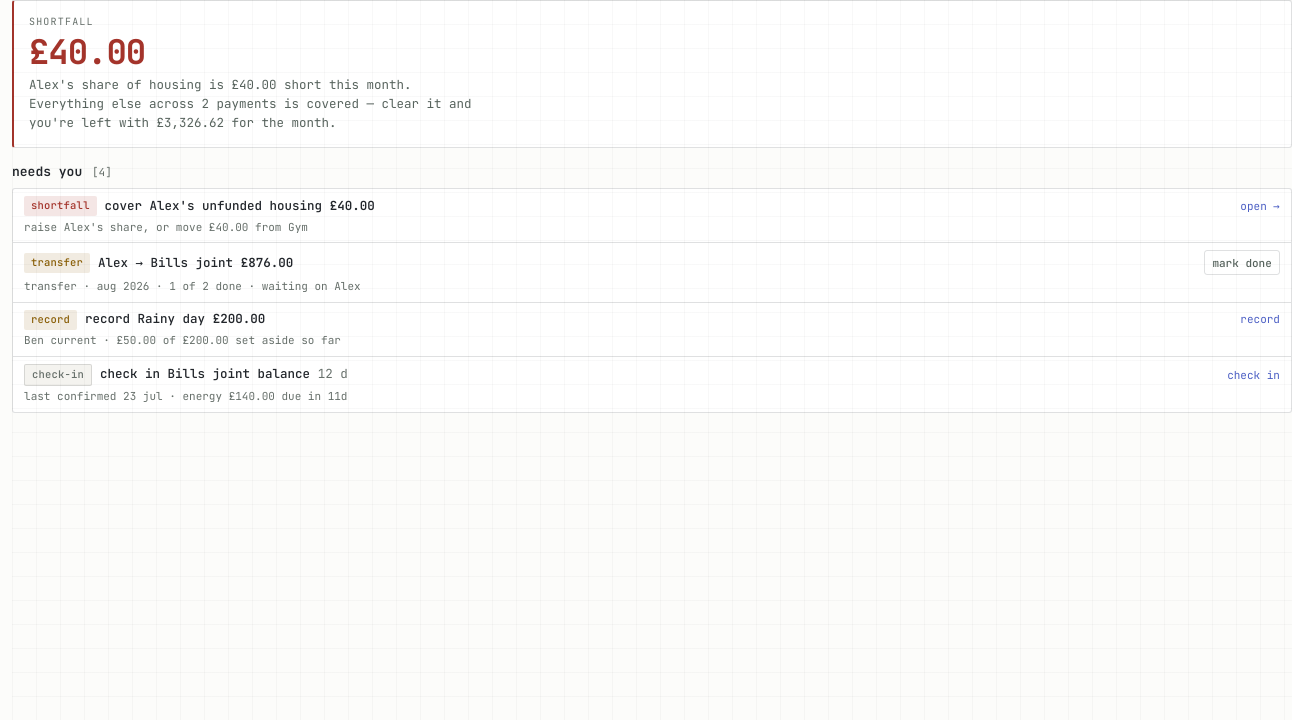
Test: Fold · record › prefills what is still missing, not the month's whole target
The image size is (1292, 720).
Step 1. Click the button "record" → [1260, 320], box [1240, 312, 1280, 328]
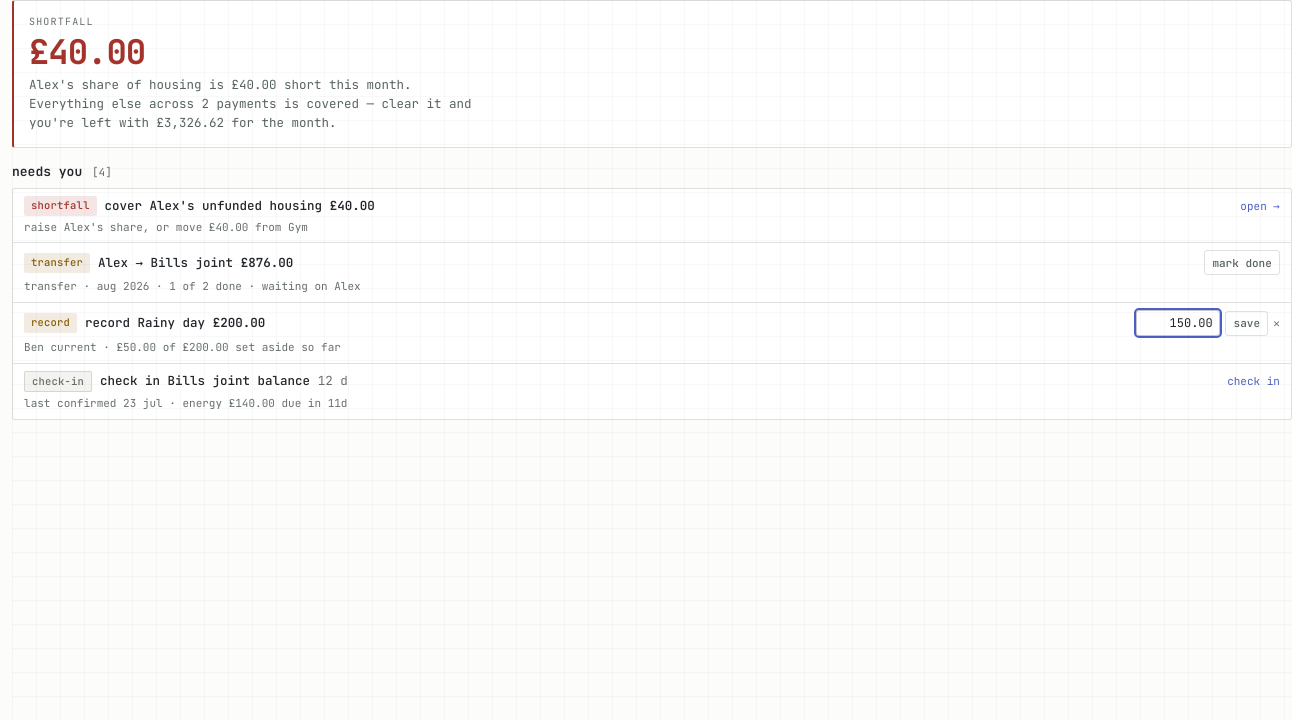
Expected: the field named "record Rainy day" holds "150.00", [1136, 310, 1220, 336]
